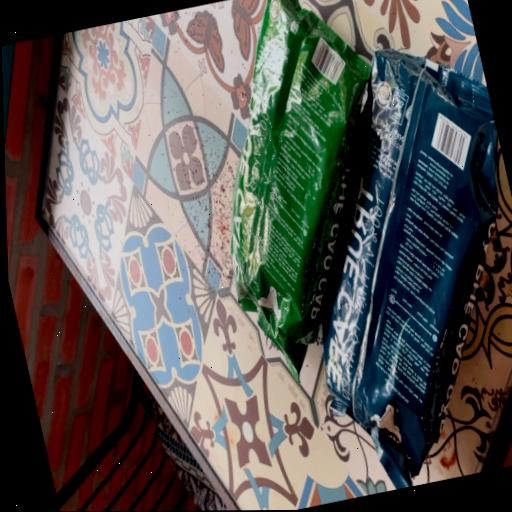cafe_hat: (323, 49, 500, 489)
cafe_xay: (231, 0, 370, 378)
